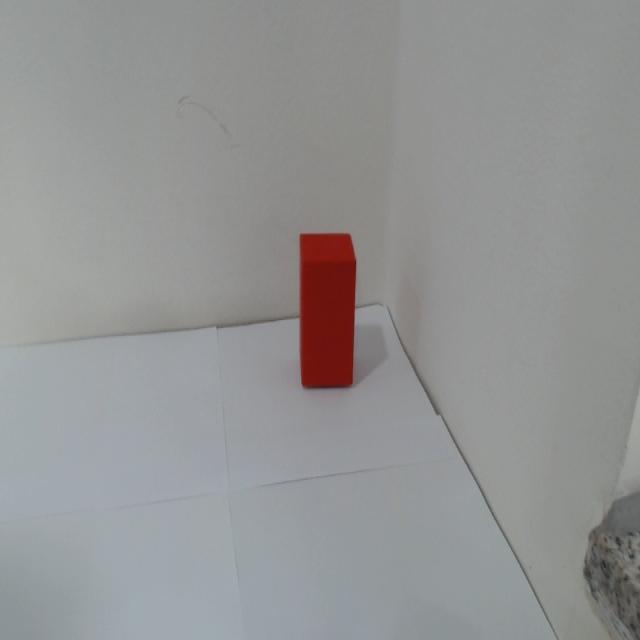cube: (295, 231, 359, 392)
